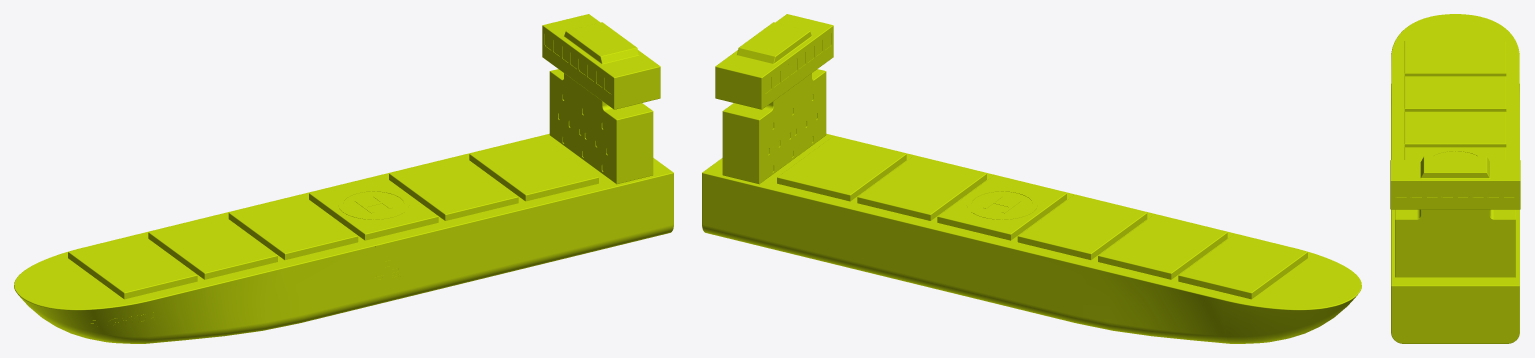
File: 05-Bulk Carriers.glb
The picture shows the model from 3 angles, left to right: view 1: azimuth 30°, elevation 25°; view 2: azimuth 150°, elevation 25°; view 3: azimuth 270°, elevation 25°; orthographic projection. The views are drawn at different scales.
Visible parts, largest first — view 1: Polygon.001; view 2: Polygon.001; view 3: Polygon.001.
Boxes of the visible parts, x1,y1,x2,y2 form: Polygon.001: (14,14,673,343); Polygon.001: (702,14,1361,343); Polygon.001: (1390,14,1520,343).
Bounding box in the file's own units: 49.96 × 14 × 10.1.
